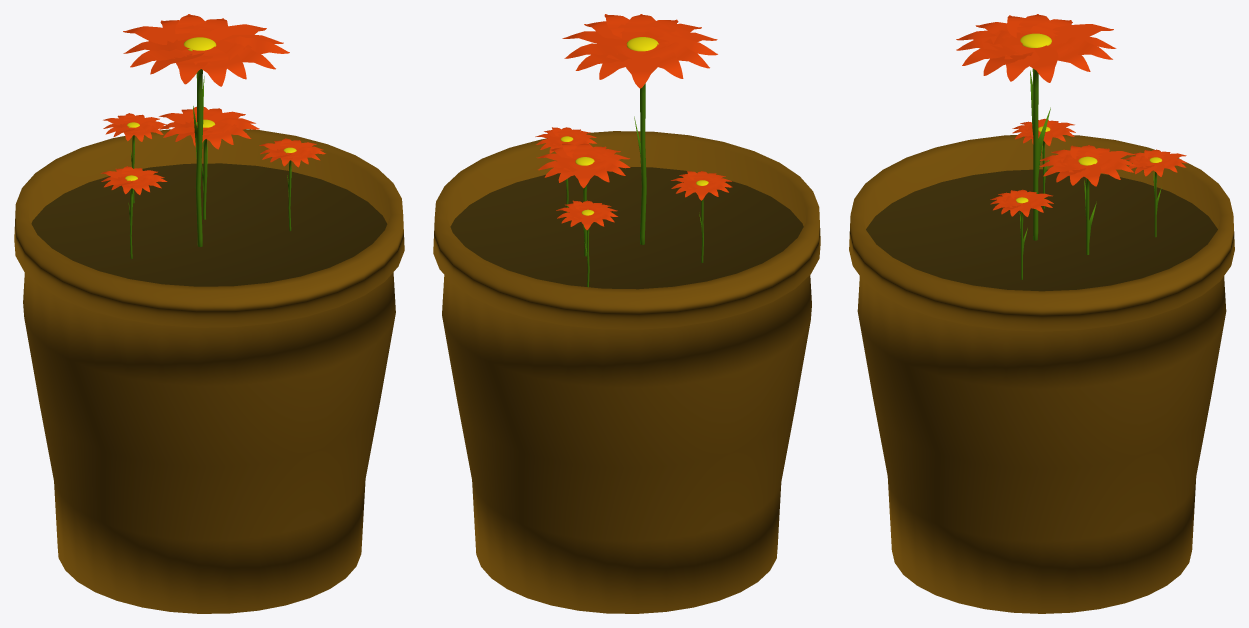
File: plant-00000.glb
The picture shows the model from 3 angles, left to right: view 1: azimuth 30°, elevation 25°; view 2: azimuth 150°, elevation 25°; view 3: azimuth 270°, elevation 25°; orthographic projection.
Parts seen in each view (by area): view 1: Sphere.036; view 2: Sphere.036; view 3: Sphere.036.
Boxes of the visible parts, x1=… form: Sphere.036: x1=14, y1=14, x2=404, y2=613; Sphere.036: x1=433, y1=14, x2=820, y2=613; Sphere.036: x1=849, y1=14, x2=1234, y2=613.
Size of the model in its own units: 0.3018 by 0.4375 by 0.3018.
